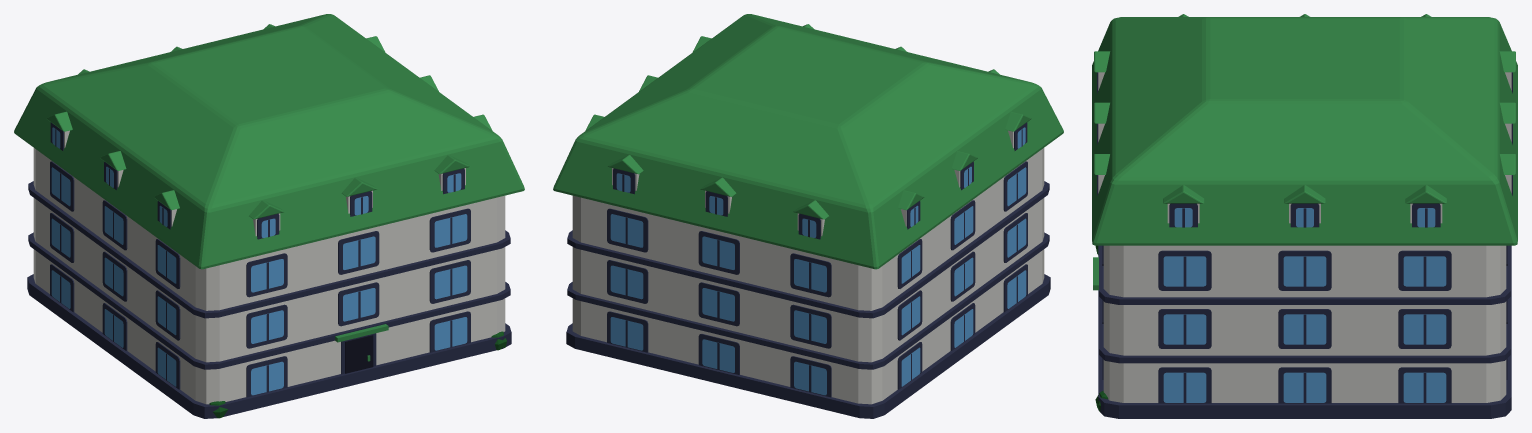
Rendered from house-2x2-3f-mansard-a.glb.
3 renders of one model, left to right at view 1: azimuth 30°, elevation 25°; view 2: azimuth 150°, elevation 25°; view 3: azimuth 270°, elevation 25°, orthographic. The views are drawn at different scales.
Parts seen in each view (by area): view 1: house-2x2-3f-mansard-a; view 2: house-2x2-3f-mansard-a; view 3: house-2x2-3f-mansard-a.
Boxes of the visible parts, bbox=[...] form: house-2x2-3f-mansard-a: bbox=[14, 14, 524, 418]; house-2x2-3f-mansard-a: bbox=[553, 14, 1063, 418]; house-2x2-3f-mansard-a: bbox=[1092, 14, 1517, 418].
Bounding box in the file's own units: 1.99 × 1.41 × 1.99.
1 material, 1 textured.
